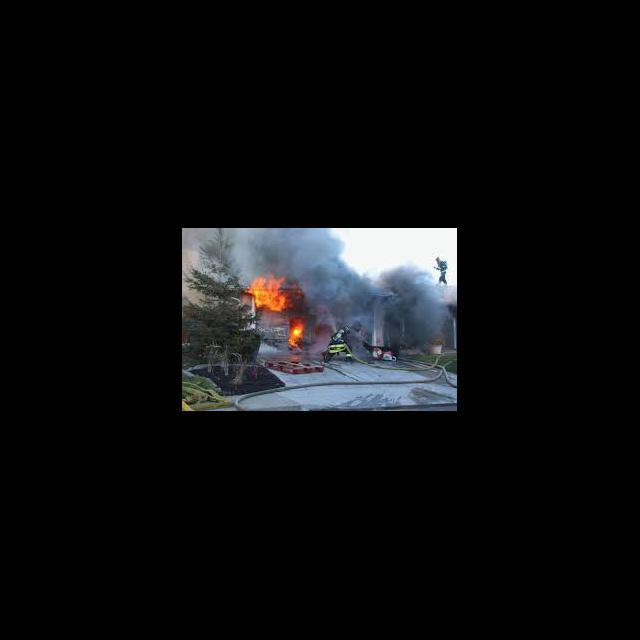Fire: (245, 272, 296, 314), (290, 317, 306, 346)
